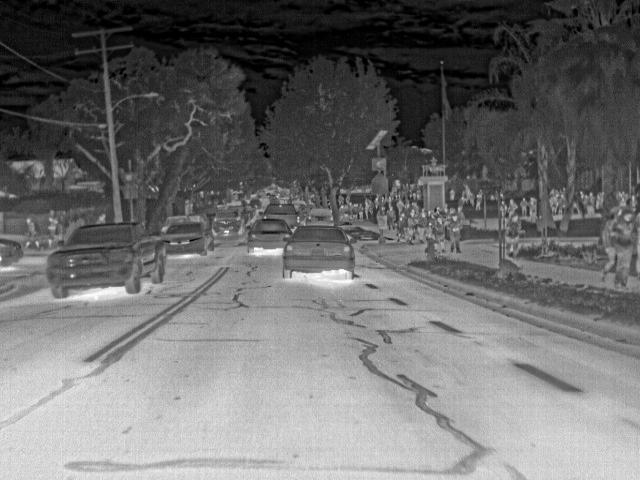car: (45, 220, 165, 300), (282, 225, 356, 281), (164, 213, 213, 256), (249, 218, 293, 252), (212, 209, 245, 238), (264, 202, 300, 228), (0, 237, 23, 269), (304, 206, 333, 223), (236, 202, 256, 218), (298, 206, 317, 218), (289, 198, 305, 211), (248, 199, 264, 210), (299, 215, 306, 224)
person: (613, 209, 635, 289), (600, 205, 619, 283), (506, 213, 522, 257), (25, 216, 40, 250), (449, 213, 461, 254), (417, 208, 430, 242), (406, 208, 418, 244), (434, 214, 445, 253), (374, 207, 387, 236), (45, 207, 57, 238), (384, 206, 397, 232), (397, 210, 407, 237), (362, 197, 374, 219), (355, 199, 367, 219), (444, 213, 452, 241), (474, 189, 483, 212), (587, 190, 595, 215), (429, 212, 436, 237), (94, 212, 108, 224), (550, 194, 558, 214), (520, 196, 528, 216), (509, 198, 518, 213), (500, 198, 507, 217), (529, 197, 536, 215), (351, 200, 357, 221), (338, 202, 345, 220), (346, 199, 351, 221), (596, 191, 602, 208), (579, 190, 587, 202), (469, 192, 475, 206), (459, 195, 465, 209), (449, 188, 456, 200), (456, 204, 463, 215), (396, 198, 404, 207), (560, 192, 565, 206), (449, 206, 456, 216), (433, 205, 440, 215)
